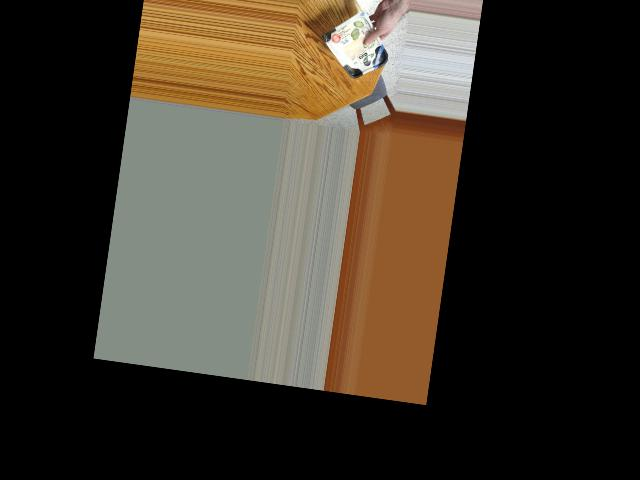cheese: (325, 18, 387, 82)
